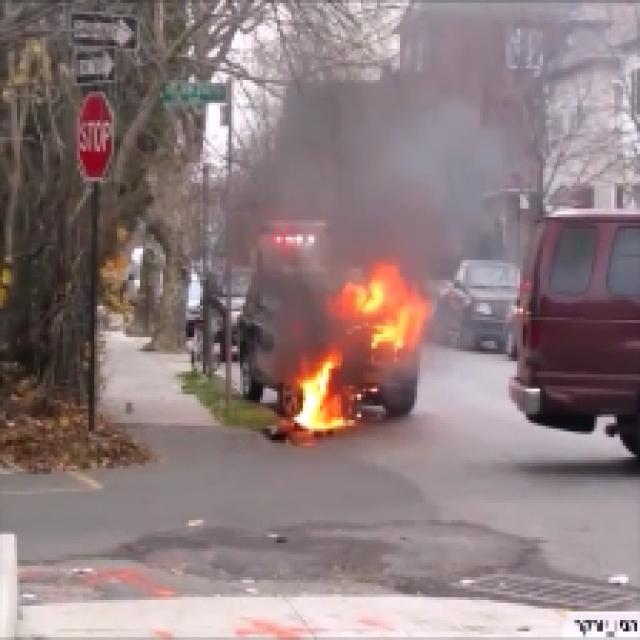fire: (343, 277, 412, 342), (292, 366, 338, 432)
smoke: (328, 128, 492, 252), (272, 262, 325, 360)
